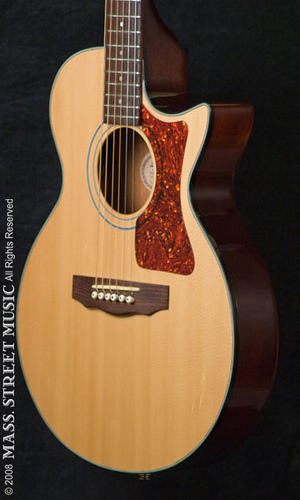guitar: (12, 1, 279, 477)
